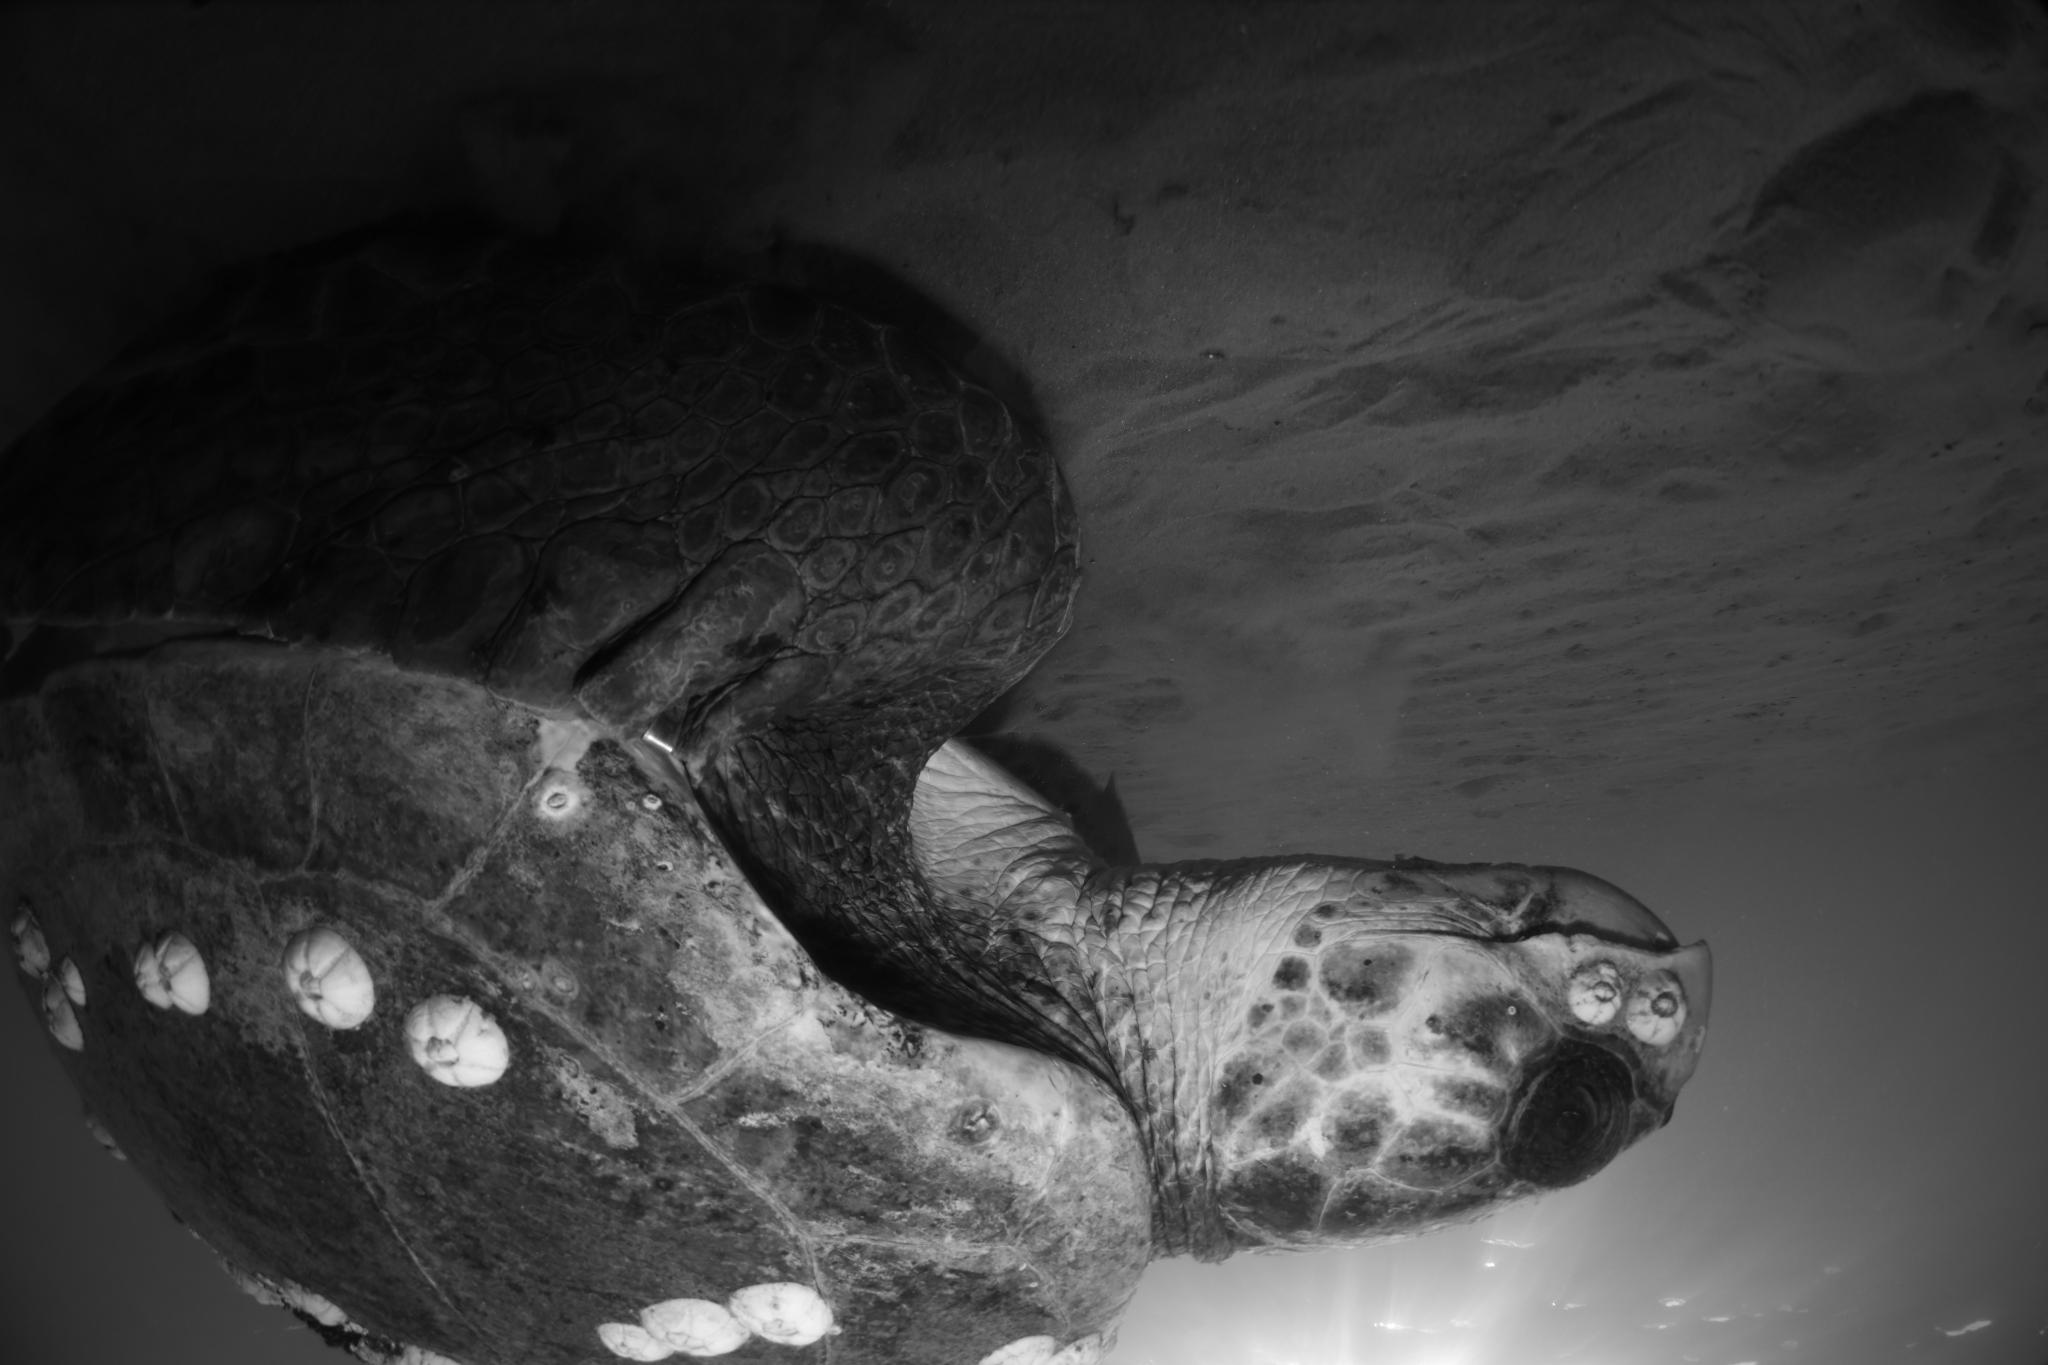Head: (1153, 858, 1712, 1262)
